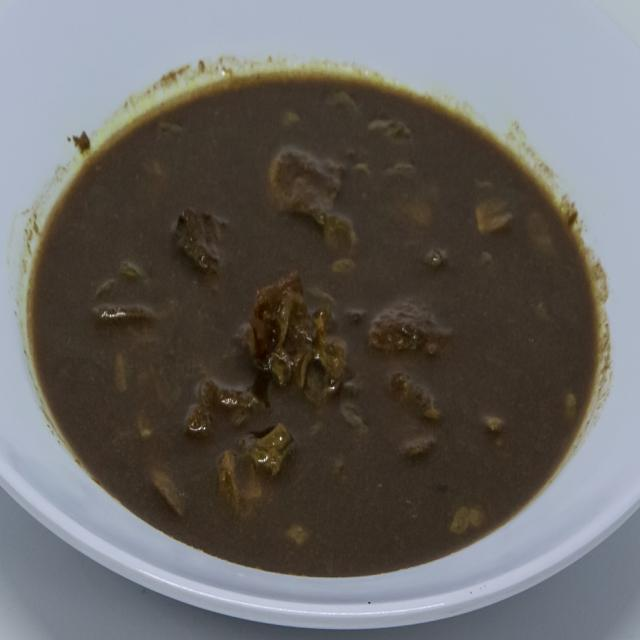Rawon-Surabaya: (26, 52, 593, 578)
